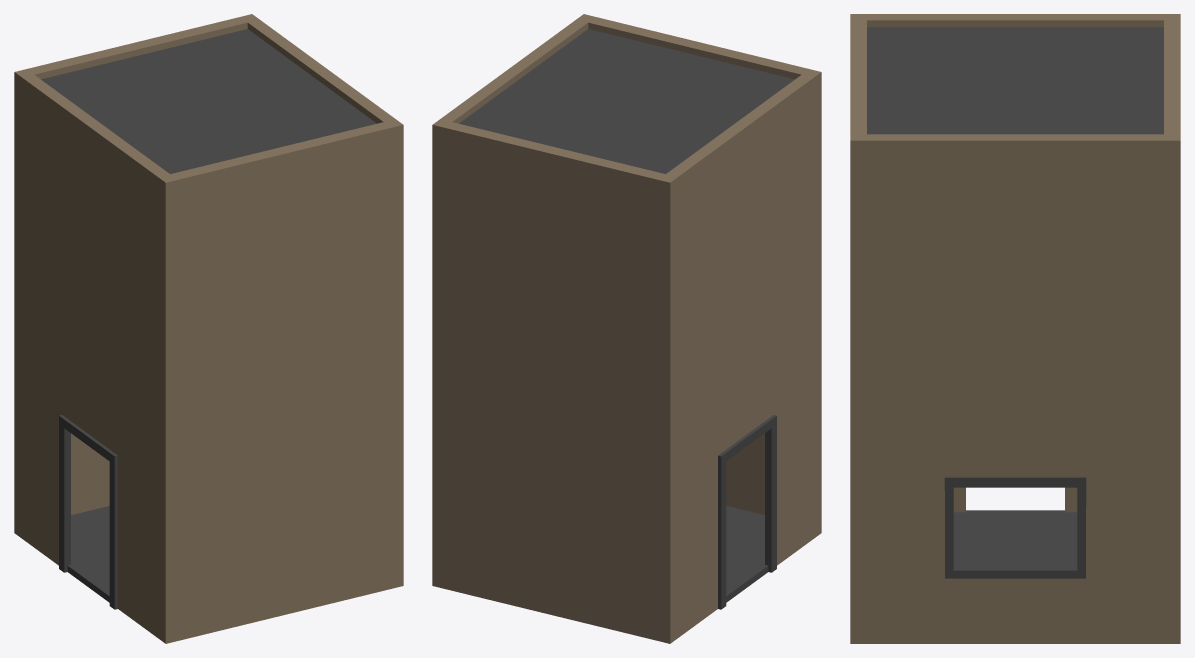
Rendered from HighBuilding1-1.fbx.
3 views of the same model, side by side, from view 1: azimuth 30°, elevation 25°; view 2: azimuth 150°, elevation 25°; view 3: azimuth 270°, elevation 25° (orthographic). The views are drawn at different scales.
Visible parts, largest first — view 1: HighBuilding1.000_LOD0; view 2: HighBuilding1.000_LOD0; view 3: HighBuilding1.000_LOD0.
Boxes of the visible parts, x1,y1,x2,y2 form: HighBuilding1.000_LOD0: [14, 14, 403, 643]; HighBuilding1.000_LOD0: [432, 14, 821, 643]; HighBuilding1.000_LOD0: [850, 14, 1180, 643].
Size of what is drawn, in the model's own units: 793 by 1436 by 854.
Materials: 1 (1 with a texture image).
